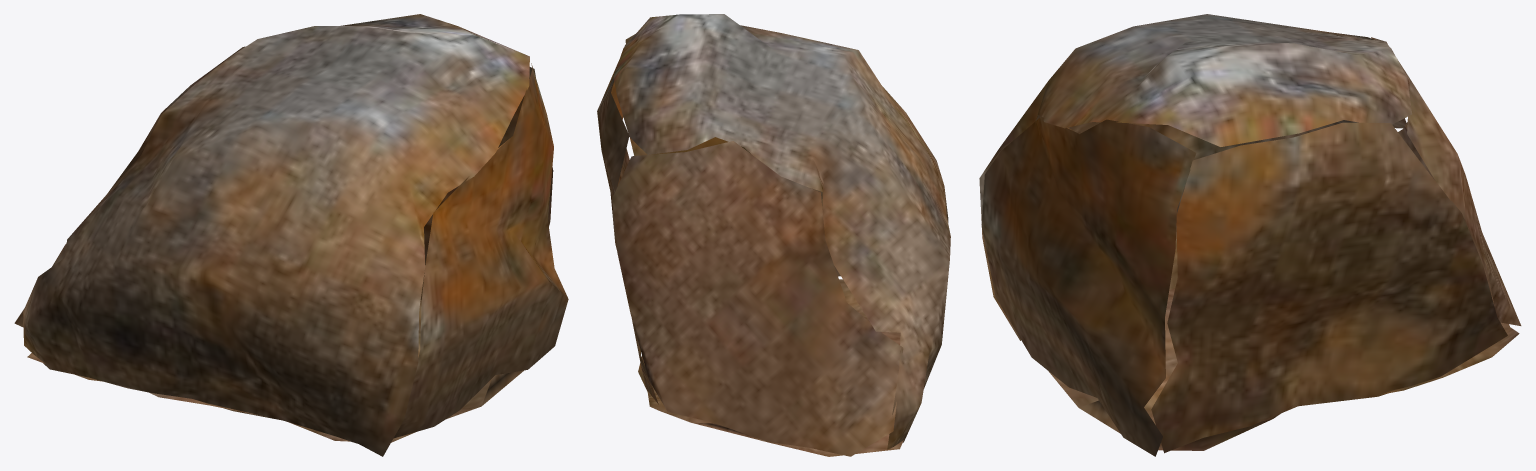
File: namaqualand_boulder_04_lod2.glb
3 renders of one model, left to right at view 1: azimuth 30°, elevation 25°; view 2: azimuth 150°, elevation 25°; view 3: azimuth 270°, elevation 25°, orthographic. The views are drawn at different scales.
Visible parts, largest first — view 1: boulder_04; view 2: boulder_04; view 3: boulder_04.
Boxes of the visible parts, x1,y1,x2,y2 form: boulder_04: [14, 14, 568, 456]; boulder_04: [597, 14, 950, 456]; boulder_04: [979, 14, 1521, 456].
Size of the model in its own units: 2.53 by 1.85 by 2.51.
1 material, 1 textured.
